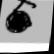not correct: (0, 0, 40, 39)
